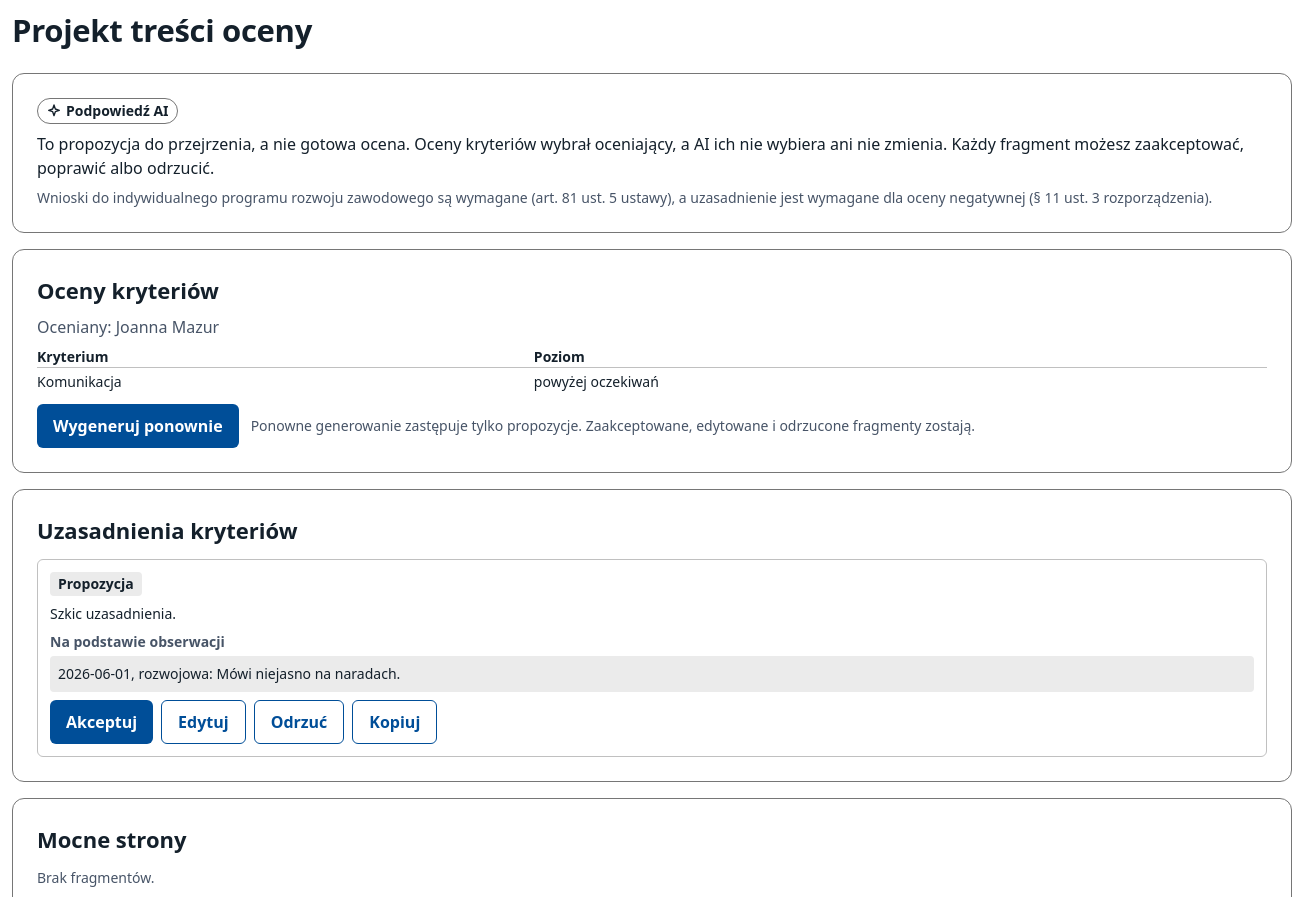
Test: a fragment › shows the message from the backend when a change is refused
Click the button "Akceptuj" at (102, 722), box [50,700,153,744]
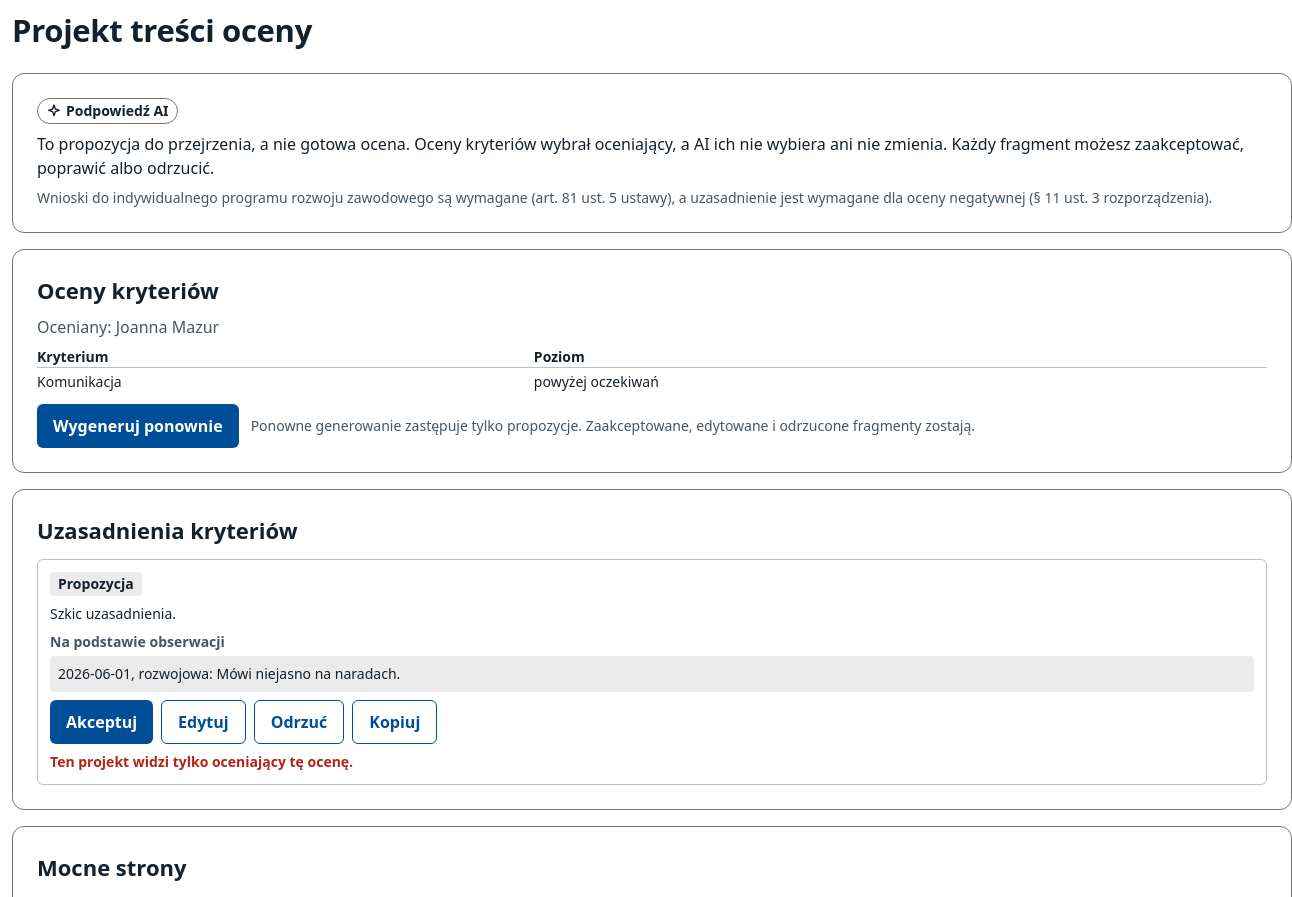
Result: the message shows "tylko oceniający" at [50,752,353,771]
